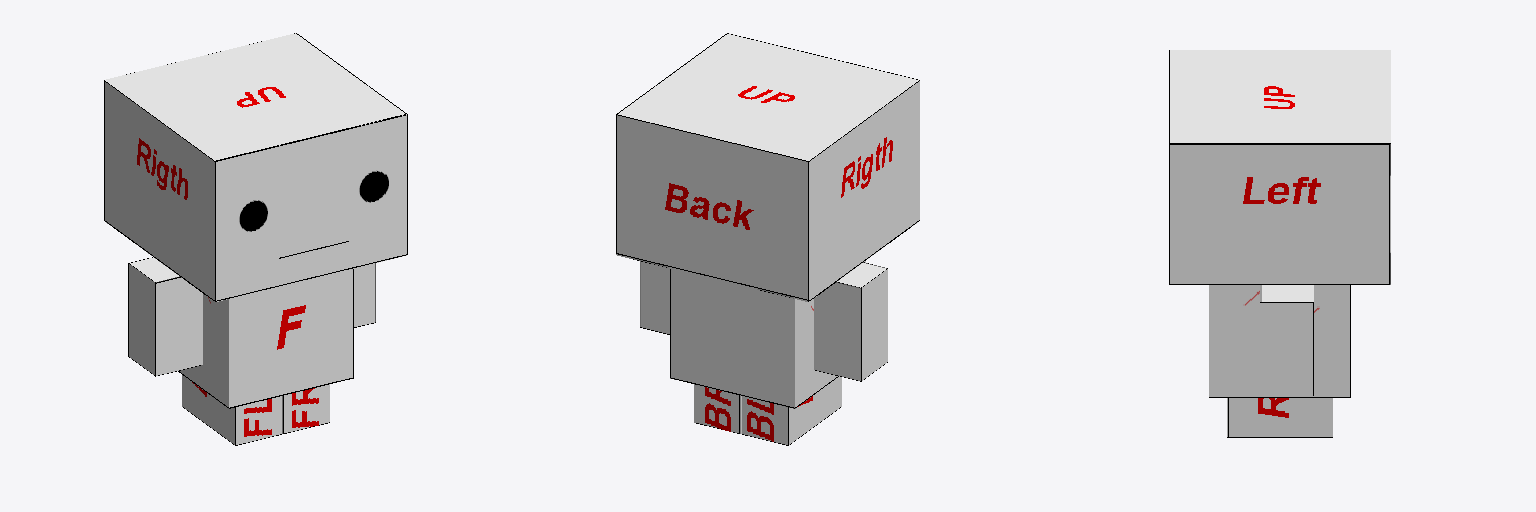
3 renders of one model, left to right at view 1: azimuth 30°, elevation 25°; view 2: azimuth 150°, elevation 25°; view 3: azimuth 270°, elevation 25°, orthographic.
Parts seen in each view (by area): view 1: Head, Body, RHand, RLeg, LLeg, LHand; view 2: Head, Body, RHand, RLeg, LHand, LLeg; view 3: Head, Body, LHand, LLeg.
Boxes of the visible parts, <box> form: Head: <box>104,33,407,301</box>; Body: <box>178,269,353,408</box>; RHand: <box>128,257,202,376</box>; RLeg: <box>182,375,281,445</box>; LLeg: <box>282,384,329,433</box>; LHand: <box>354,263,375,327</box>; Head: <box>616,33,919,301</box>; Body: <box>670,261,865,408</box>; RHand: <box>814,262,887,381</box>; RLeg: <box>742,376,841,445</box>; LHand: <box>640,261,669,334</box>; LLeg: <box>694,384,741,433</box>; Head: <box>1169,50,1390,284</box>; Body: <box>1209,285,1350,397</box>; LHand: <box>1260,285,1313,395</box>; LLeg: <box>1227,398,1332,437</box>.
Bounding box in the file's own units: 2.17 × 2.98 × 1.89.
Materials: 1 (1 with a texture image).